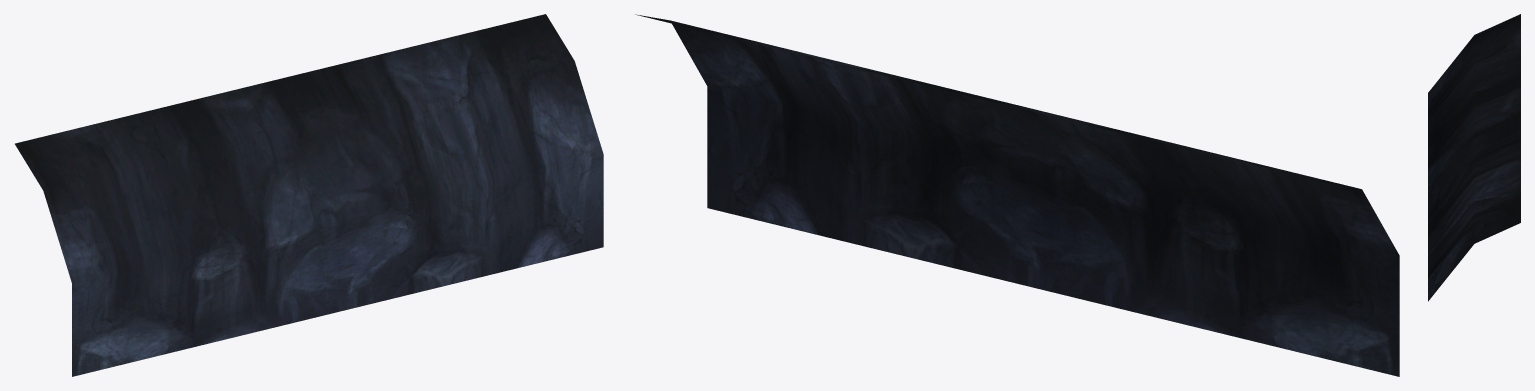
The model's file is mine_cap_straight_01.fbx.
3 views of the same model, side by side, from view 1: azimuth 30°, elevation 25°; view 2: azimuth 150°, elevation 25°; view 3: azimuth 270°, elevation 25° (orthographic). The views are drawn at different scales.
Visible parts, largest first — view 1: mine_tileset/fade01_mat; view 2: mine_tileset/fade01_mat; view 3: mine_tileset/fade01_mat.
Part boxes in pixels (x1,y1,x2,y2): mine_tileset/fade01_mat: [15, 14, 603, 376]; mine_tileset/fade01_mat: [636, 14, 1399, 376]; mine_tileset/fade01_mat: [1428, 14, 1520, 301].
Bounding box in the file's own units: 4 × 1.38 × 0.75.
